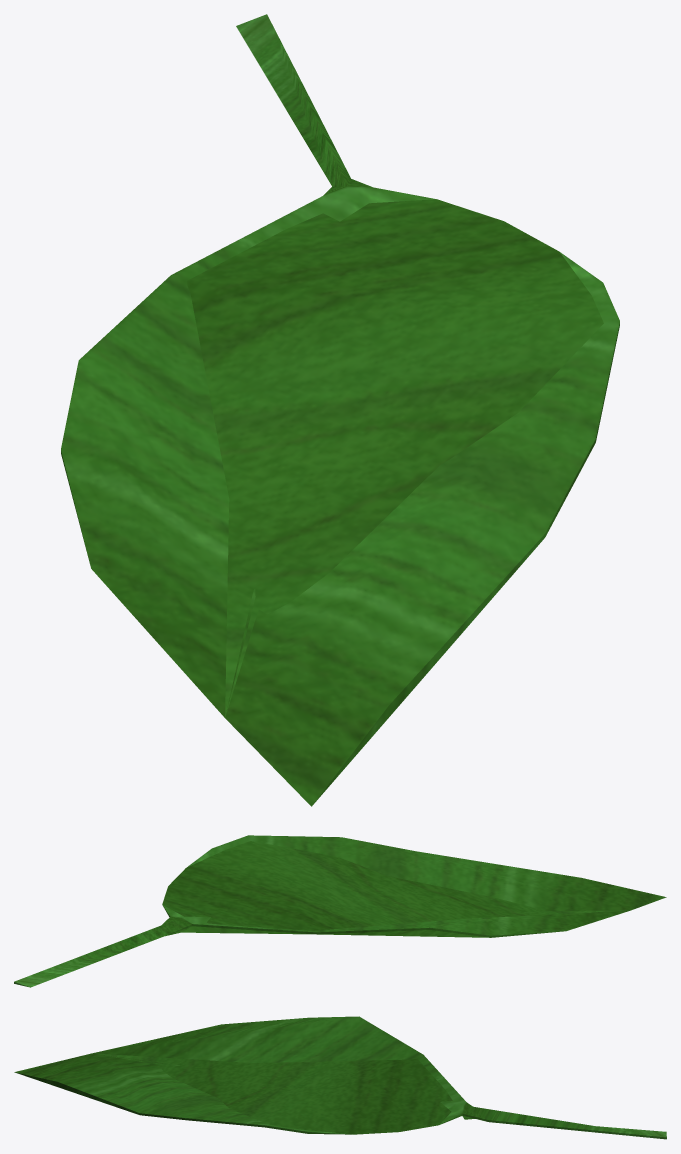
The model's file is Leaf_Animation2.fbx.
3 views of the same model, one above another, from view 1: azimuth 30°, elevation 25°; view 2: azimuth 150°, elevation 25°; view 3: azimuth 270°, elevation 25° (orthographic). The views are drawn at different scales.
Parts seen in each view (by area): view 1: pasted__polySurface3; view 2: pasted__polySurface3; view 3: pasted__polySurface3.
Part boxes in pixels (<box>): pasted__polySurface3: <box>61,14,619,806</box>; pasted__polySurface3: <box>14,835,666,987</box>; pasted__polySurface3: <box>14,1016,666,1139</box>.
Size of the model in its own units: 0.262 by 0.0691 by 0.477.
